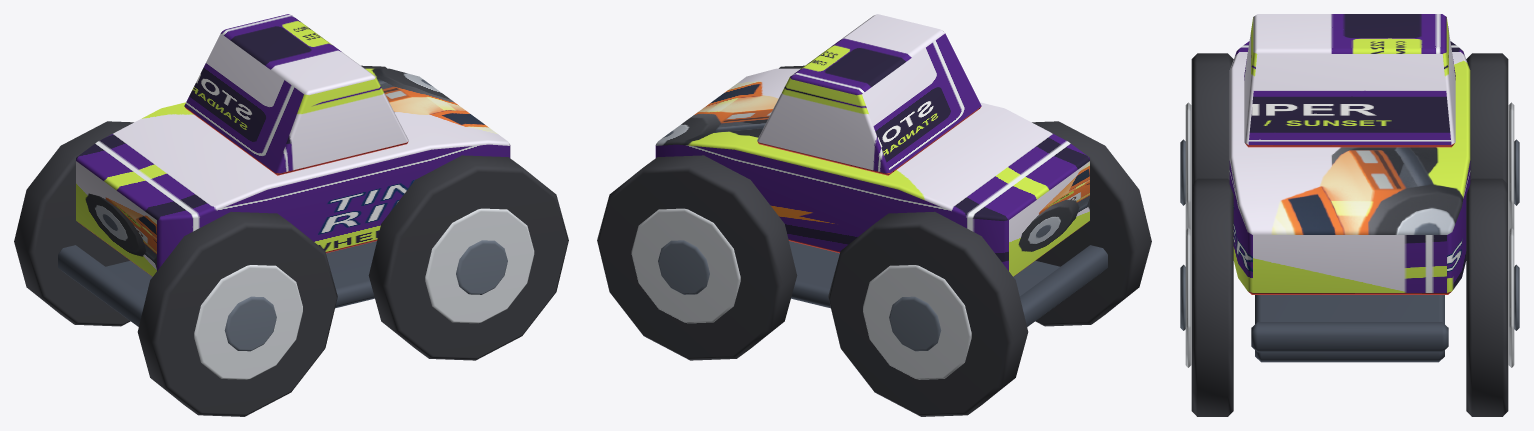
The picture shows the model from 3 angles, left to right: view 1: azimuth 30°, elevation 25°; view 2: azimuth 150°, elevation 25°; view 3: azimuth 270°, elevation 25°; orthographic projection. The views are drawn at different scales.
Parts seen in each view (by area): view 1: BW-03_connected_shell, BW-03_cabin, Tire.002, Tire, Tire.001, Rim.002, Rim, underbody, front bumper, Hub.002, Hub; view 2: BW-03_connected_shell, BW-03_cabin, Tire.003, Tire.001, Tire, Rim.003, Rim.001, underbody, front bumper, Hub.003, Hub.001; view 3: BW-03_connected_shell, BW-03_cabin, Tire.002, Tire.003, underbody, rear bumper, Tire, Tire.001, Rim.002, Rim.003, Rim, Rim.001 (+4 smaller).
Boxes of the visible parts, left/top/right/bottom form: BW-03_connected_shell: left=76, top=68, right=510, bottom=276; BW-03_cabin: left=184, top=14, right=408, bottom=175; Tire.002: left=368, top=155, right=568, bottom=360; Tire: left=137, top=211, right=337, bottom=416; Tire.001: left=14, top=121, right=133, bottom=326; Rim.002: left=425, top=208, right=534, bottom=323; Rim: left=194, top=265, right=302, bottom=379; underbody: left=105, top=241, right=376, bottom=308; front bumper: left=58, top=245, right=145, bottom=326; Hub.002: left=456, top=240, right=507, bottom=294; Hub: left=224, top=296, right=276, bottom=351; BW-03_connected_shell: left=655, top=68, right=1089, bottom=276; BW-03_cabin: left=757, top=14, right=981, bottom=175; Tire.003: left=597, top=155, right=797, bottom=360; Tire.001: left=828, top=211, right=1028, bottom=416; Tire: left=1032, top=121, right=1151, bottom=326; Rim.003: left=631, top=208, right=740, bottom=323; Rim.001: left=863, top=265, right=971, bottom=379; underbody: left=789, top=241, right=1060, bottom=308; front bumper: left=1020, top=245, right=1107, bottom=326; Hub.003: left=658, top=240, right=709, bottom=294; Hub.001: left=889, top=296, right=941, bottom=351; BW-03_connected_shell: left=1229, top=41, right=1470, bottom=294; BW-03_cabin: left=1244, top=14, right=1455, bottom=147; Tire.002: left=1191, top=178, right=1233, bottom=416; Tire.003: left=1466, top=178, right=1508, bottom=416; underbody: left=1255, top=295, right=1444, bottom=362; rear bumper: left=1251, top=322, right=1448, bottom=352; Tire: left=1191, top=53, right=1233, bottom=183; Tire.001: left=1466, top=53, right=1508, bottom=183; Rim.002: left=1185, top=228, right=1191, bottom=367; Rim.003: left=1508, top=228, right=1514, bottom=367; Rim: left=1185, top=102, right=1191, bottom=229; Rim.001: left=1508, top=102, right=1514, bottom=229.
Bounding box in the file's own units: 331 × 216 × 210.
